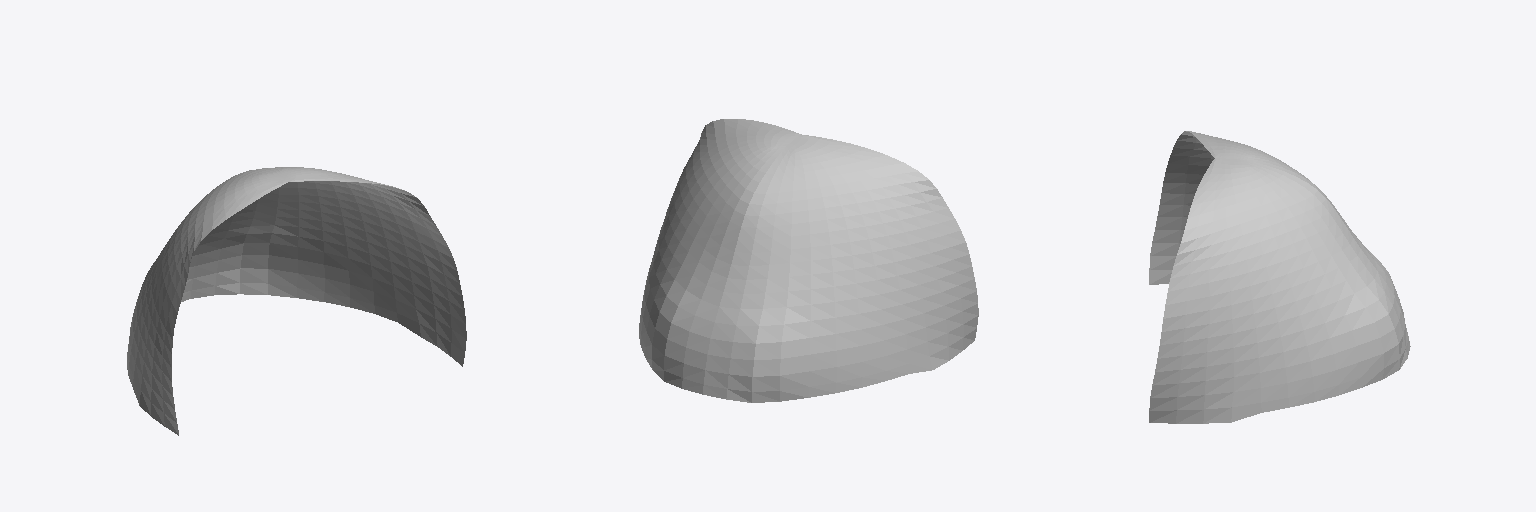
File: Glass.obj
The picture shows the model from 3 angles: view 1: azimuth 30°, elevation 25°; view 2: azimuth 150°, elevation 25°; view 3: azimuth 270°, elevation 25°; orthographic projection.
Parts seen in each view (by area): view 1: pSphere3; view 2: pSphere3; view 3: pSphere3.
Part boxes in pixels (x1,y1,x2,y2): pSphere3: (127,167,466,435); pSphere3: (639,119,978,402); pSphere3: (1149,131,1410,423).
Bounding box in the file's own units: 1466 × 936 × 1132.